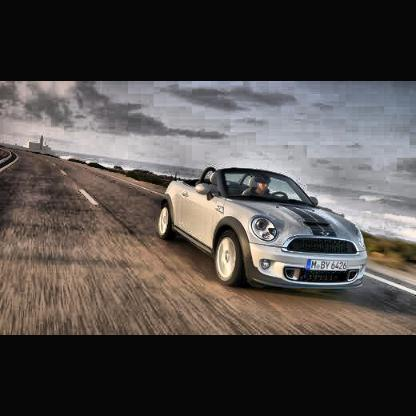MINI Cooper Roadster Convertible 2012: (158, 167, 369, 293)
